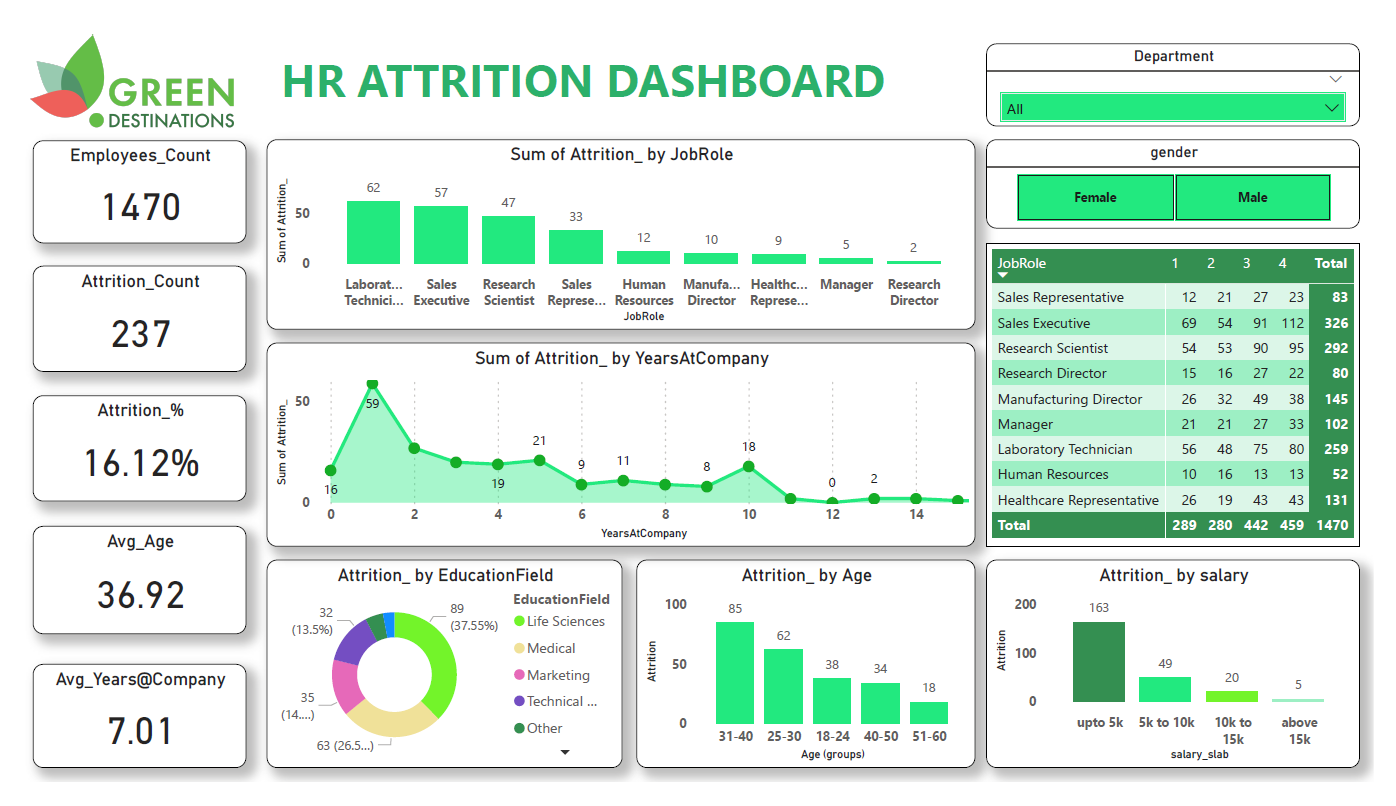

What the dashboard file says about the page in this screenshot:
{"tool":"powerbi","page":{"name":"Page 1","canvas":[1280,720],"ordinal":0},"visuals":[{"type":"card","title":"Attrition_Count","fields":{"Values":["Sum(greendestination (1).Attrition_)"]},"box":[7.2,230.4,202.7,100.1],"z":0},{"type":"card","title":"Employees_Count","fields":{"Values":["Sum(greendestination (1).EmployeeCount)"]},"box":[7.2,111,202.7,97.7],"z":1000},{"type":"card","title":"Attrition_%","fields":{"Values":["Measure.Attrition %"]},"box":[7.2,353.5,202.7,100.1],"z":2000},{"type":"card","title":"Avg_Age","fields":{"Values":["Avg(greendestination (1).Age)"]},"box":[7.2,476.5,202.7,103.8],"z":3000},{"type":"card","title":"Avg_Years@Company","fields":{"Values":["Avg(greendestination (1).YearsAtCompany)"]},"box":[7.2,608,202.7,98.9],"z":4000},{"type":"donutChart","title":"Attrition_ by EducationField","fields":{"Category":["greendestination (1).EducationField"],"Y":["Sum(greendestination (1).Attrition_)"]},"box":[229.2,509.1,337.8,197.9],"z":5000},{"type":"clusteredColumnChart","title":"Attrition_ by Age","fields":{"Y":["Sum(greendestination (1).Attrition_)"],"Category":["greendestination (1).Age (groups)"]},"box":[580.3,509.1,322.1,197.9],"z":6000},{"type":"clusteredColumnChart","title":"Attrition_ by salary","fields":{"Category":["greendestination (1).salary_slab"],"Y":["Sum(greendestination (1).Attrition_)"]},"box":[912.1,509.1,354.7,197.9],"z":6001},{"type":"clusteredColumnChart","fields":{"Y":["Sum(greendestination (1).Attrition_)"],"Category":["greendestination (1).JobRole"]},"box":[229.2,109.8,673.2,181],"z":6002},{"type":"areaChart","fields":{"Y":["Sum(greendestination (1).Attrition_)"],"Category":["greendestination (1).YearsAtCompany"]},"box":[229.2,302.8,673.2,194.2],"z":6003},{"type":"pivotTable","fields":{"Rows":["greendestination (1).JobRole"],"Columns":["greendestination (1).JobSatisfaction"],"Values":["Sum(greendestination (1).EmployeeCount)"]},"box":[912.1,208.7,354.7,288.3],"z":6004},{"type":"slicer","title":"gender","fields":{"Values":["greendestination (1).Gender"]},"box":[912.1,109.8,354.7,85.7],"z":6005},{"type":"image","box":[0,0,202.7,109.8],"z":6006},{"type":"textbox","box":[237.7,19.3,728.7,78.4],"z":6007},{"type":"slicer","title":"Department","fields":{"Values":["greendestination (1).Department"]},"box":[912.1,19.3,354.7,78.4],"z":6008}]}

Visuals, with their boxes in screenshot pixels (x1, y1, x2, y2), scaled from the page's 1280x720 canvas onto the 1396x806 screenshot:
"Attrition_Count" card: <bbox>8, 258, 229, 370</bbox>
"Employees_Count" card: <bbox>8, 124, 229, 234</bbox>
"Attrition_%" card: <bbox>8, 396, 229, 508</bbox>
"Avg_Age" card: <bbox>8, 533, 229, 650</bbox>
"Avg_Years@Company" card: <bbox>8, 681, 229, 791</bbox>
"Attrition_ by EducationField" donutChart: <bbox>250, 570, 618, 791</bbox>
"Attrition_ by Age" clusteredColumnChart: <bbox>633, 570, 984, 791</bbox>
"Attrition_ by salary" clusteredColumnChart: <bbox>995, 570, 1382, 791</bbox>
clusteredColumnChart - Sum(greendestination (1).Attrition_) x greendestination (1).JobRole: <bbox>250, 123, 984, 326</bbox>
areaChart - Sum(greendestination (1).Attrition_) x greendestination (1).YearsAtCompany: <bbox>250, 339, 984, 556</bbox>
pivotTable - greendestination (1).JobRole x greendestination (1).JobSatisfaction: <bbox>995, 234, 1382, 556</bbox>
"gender" slicer: <bbox>995, 123, 1382, 219</bbox>
image: <bbox>0, 0, 221, 123</bbox>
textbox: <bbox>259, 22, 1054, 109</bbox>
"Department" slicer: <bbox>995, 22, 1382, 109</bbox>
